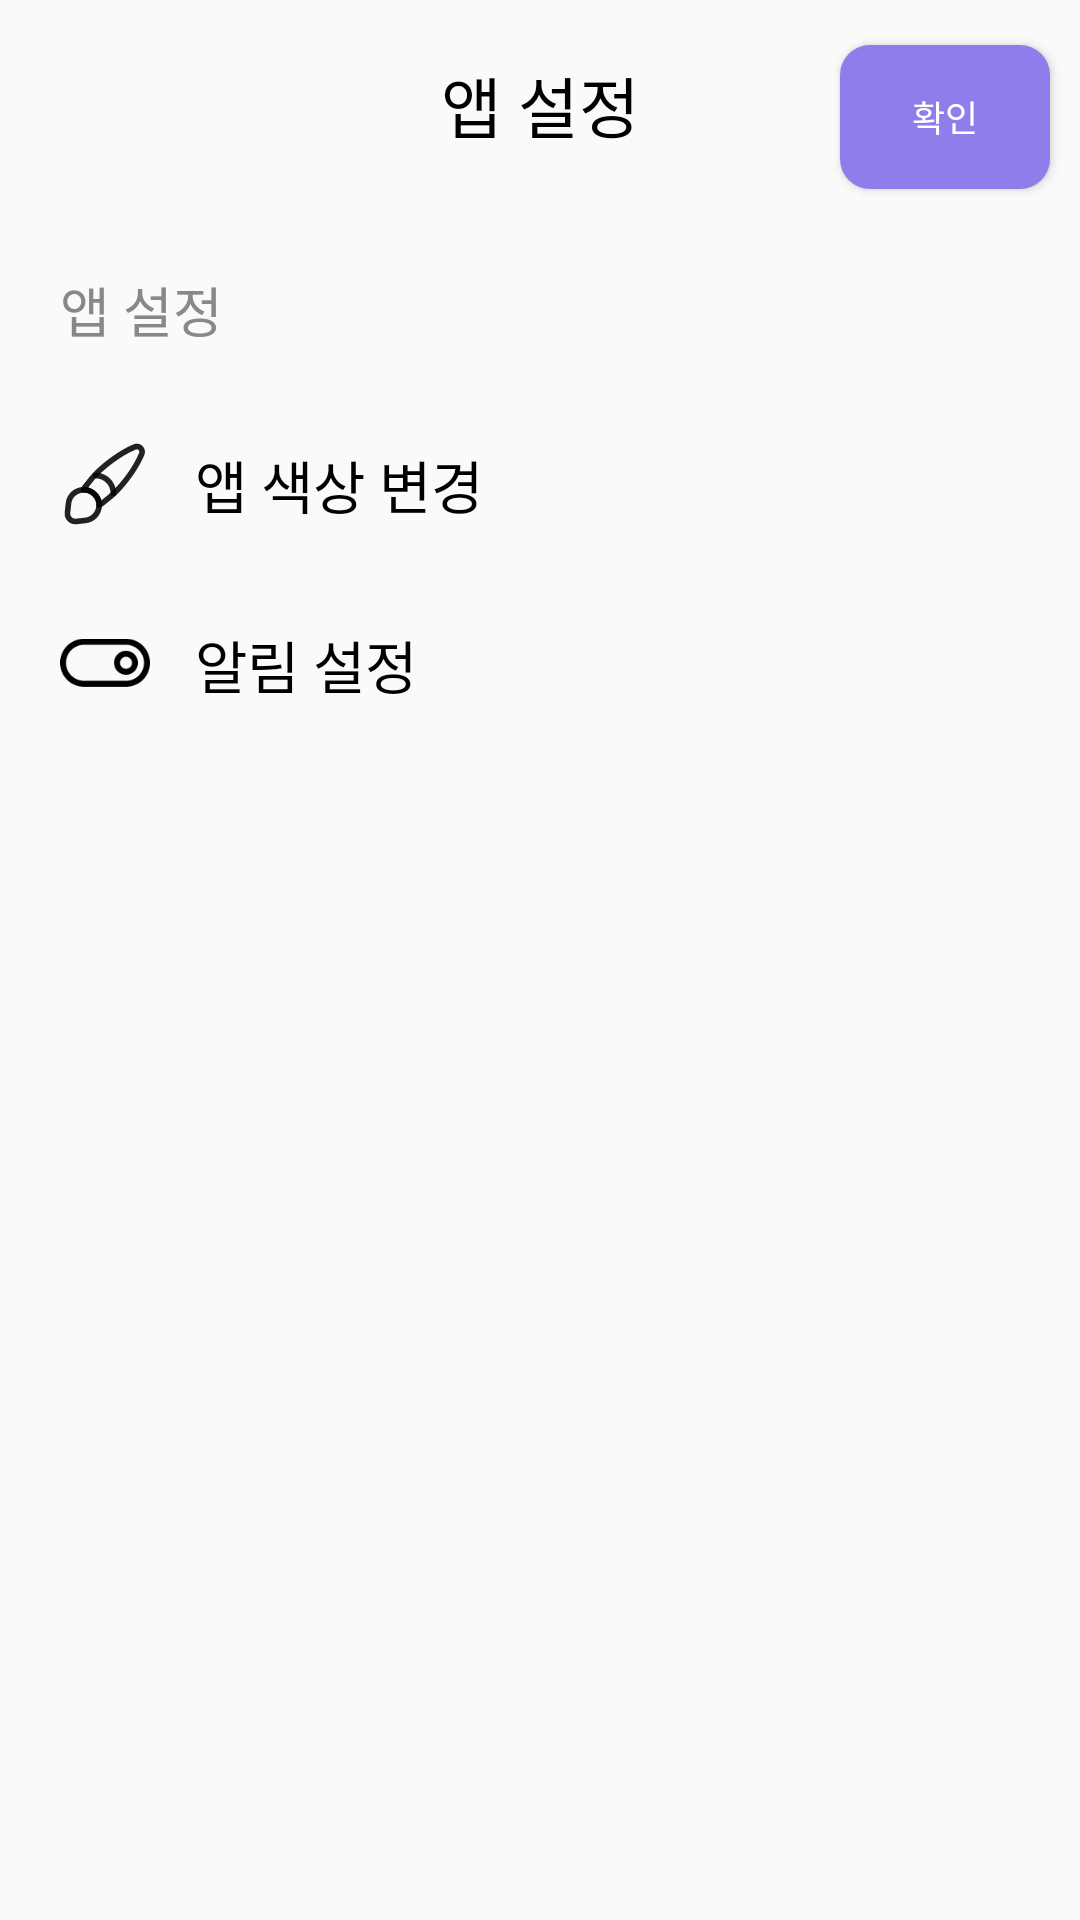

Icons on this 1080×1920 Android screen, each with its box as (x1, y1, x2, y2):
brush: (64, 443, 145, 525)
